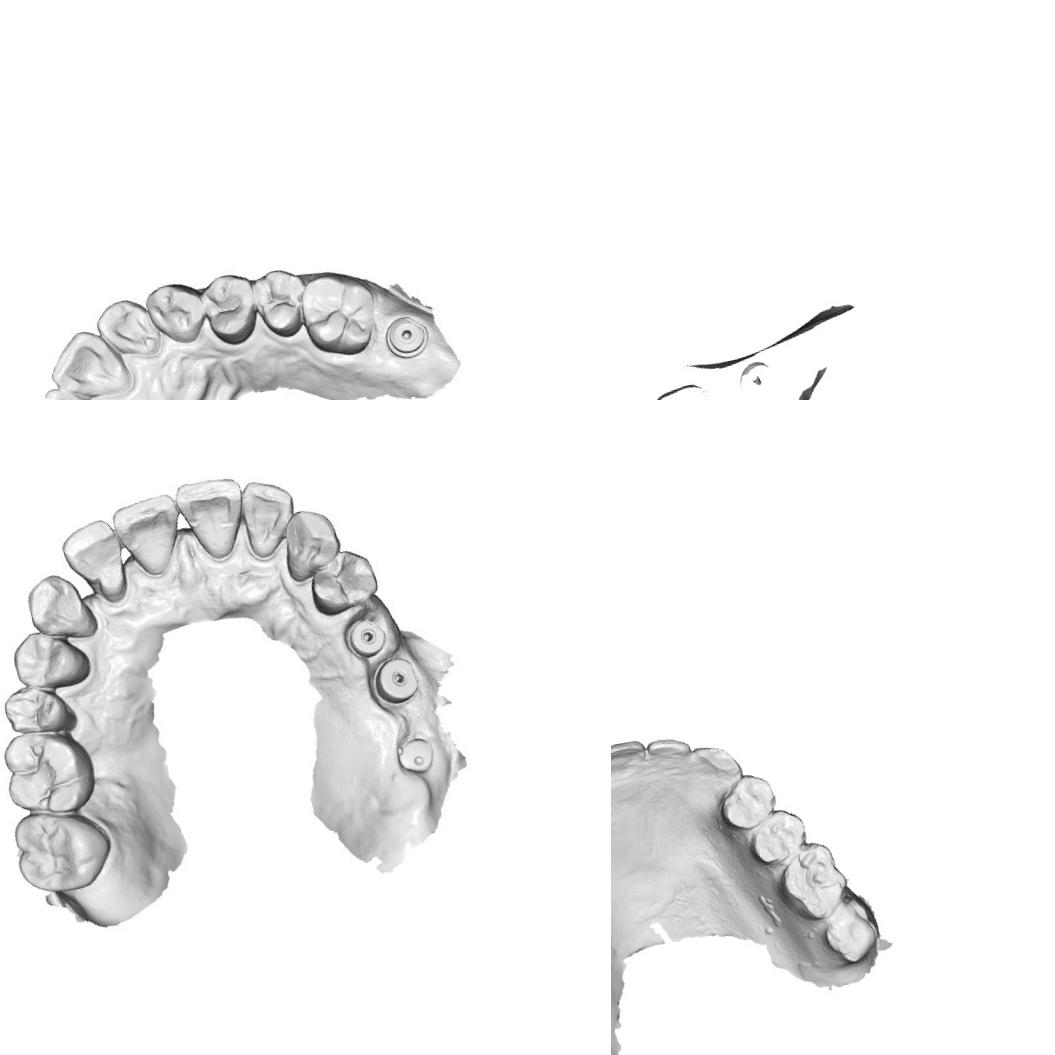canine: (22, 566, 104, 650), (276, 508, 344, 591), (144, 268, 210, 350), (687, 738, 745, 796)
implant: (376, 306, 435, 370), (372, 652, 424, 709), (392, 728, 440, 776), (338, 610, 388, 656)
incisor: (107, 490, 188, 584), (172, 474, 246, 567), (62, 516, 132, 602), (48, 328, 125, 400), (238, 475, 294, 560), (95, 294, 155, 358), (611, 734, 652, 790), (643, 731, 696, 774)
molar: (8, 800, 120, 901), (0, 722, 103, 823), (293, 266, 381, 361), (769, 834, 854, 925), (812, 896, 886, 972)
premolar: (302, 542, 386, 622), (12, 628, 94, 694), (2, 679, 86, 741), (198, 270, 263, 348), (740, 802, 812, 868), (711, 766, 782, 832), (252, 265, 314, 340)
